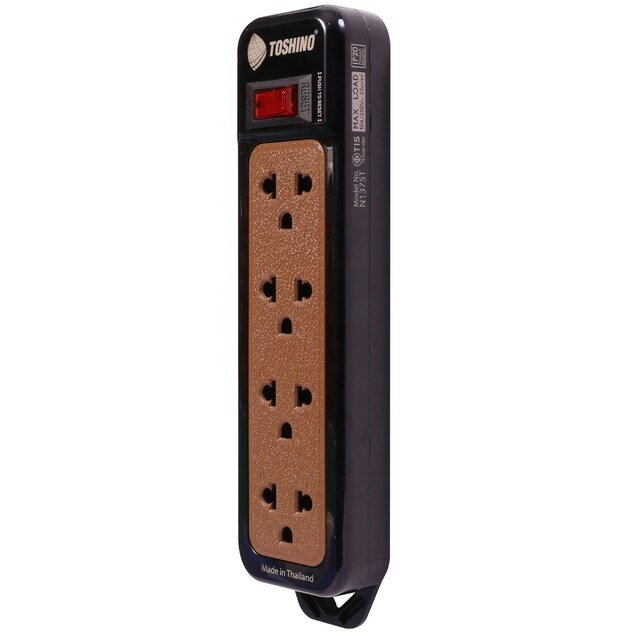Three_eye_plug: (231, 2, 405, 640)
